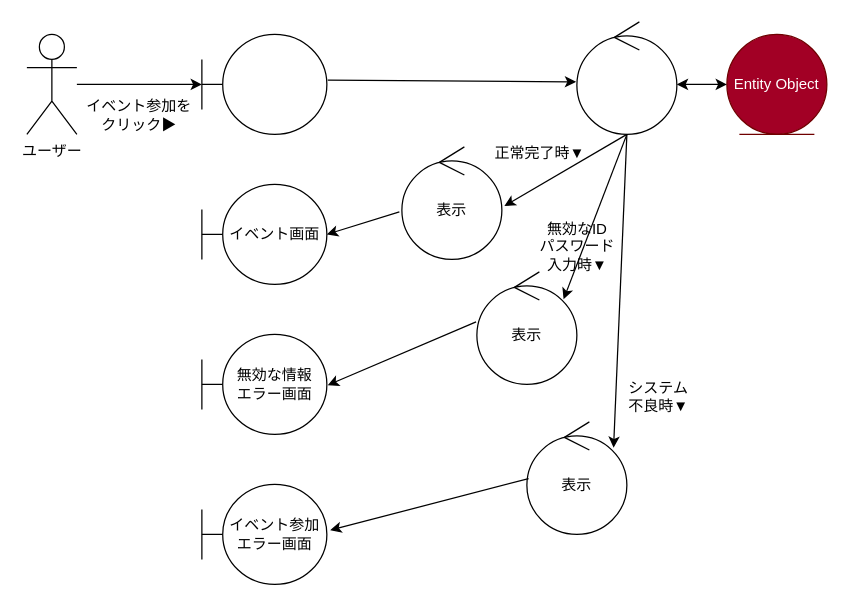
The diagram is 849 pixels wide and 606 high, and some of its shapes have lost their labels. The shapes that lost their labels are listed below. From the top down, each one's centre as x and y in pixels, then its label:
(x=264, y=83): イベント 参加画面
(x=626, y=77): イベント情報
